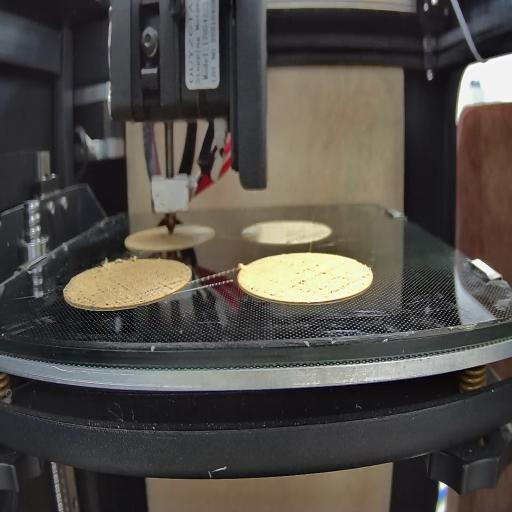under_extrusion: (291, 262, 351, 299), (77, 278, 134, 308), (147, 276, 185, 294), (246, 285, 274, 299)
